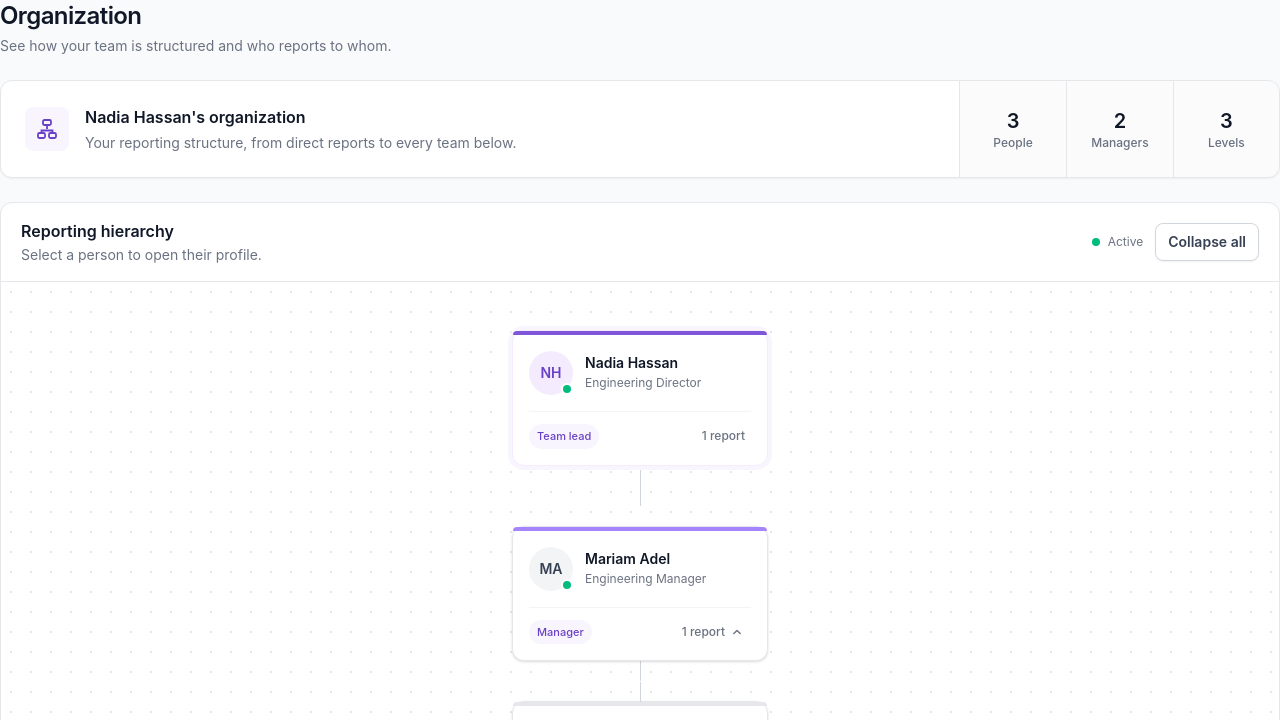
OrganizationPage › collapses and expands manager branches
Click the button with aria-label "Collapse reports for Mariam Adel".
click(713, 632)  # box [676,620,751,644]
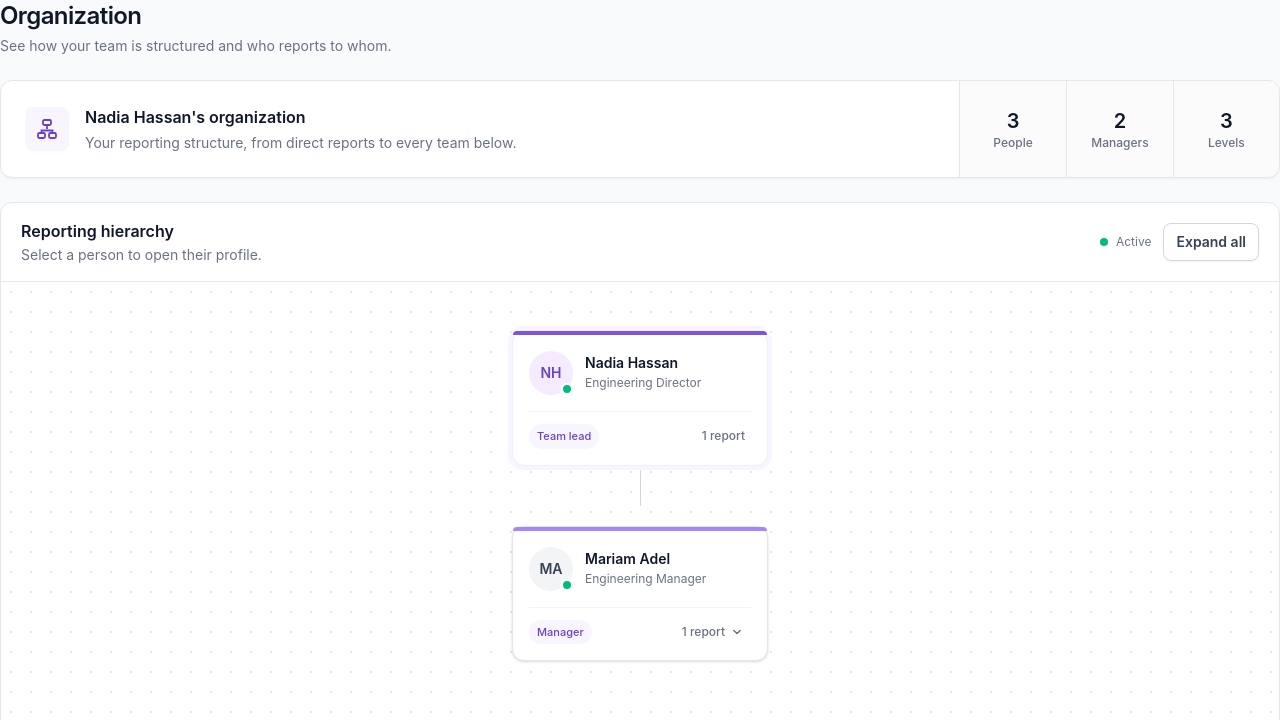
Click the button with aria-label "Expand reports for Mariam Adel".
click(713, 632)  # box [676,620,751,644]
(page scrolled)
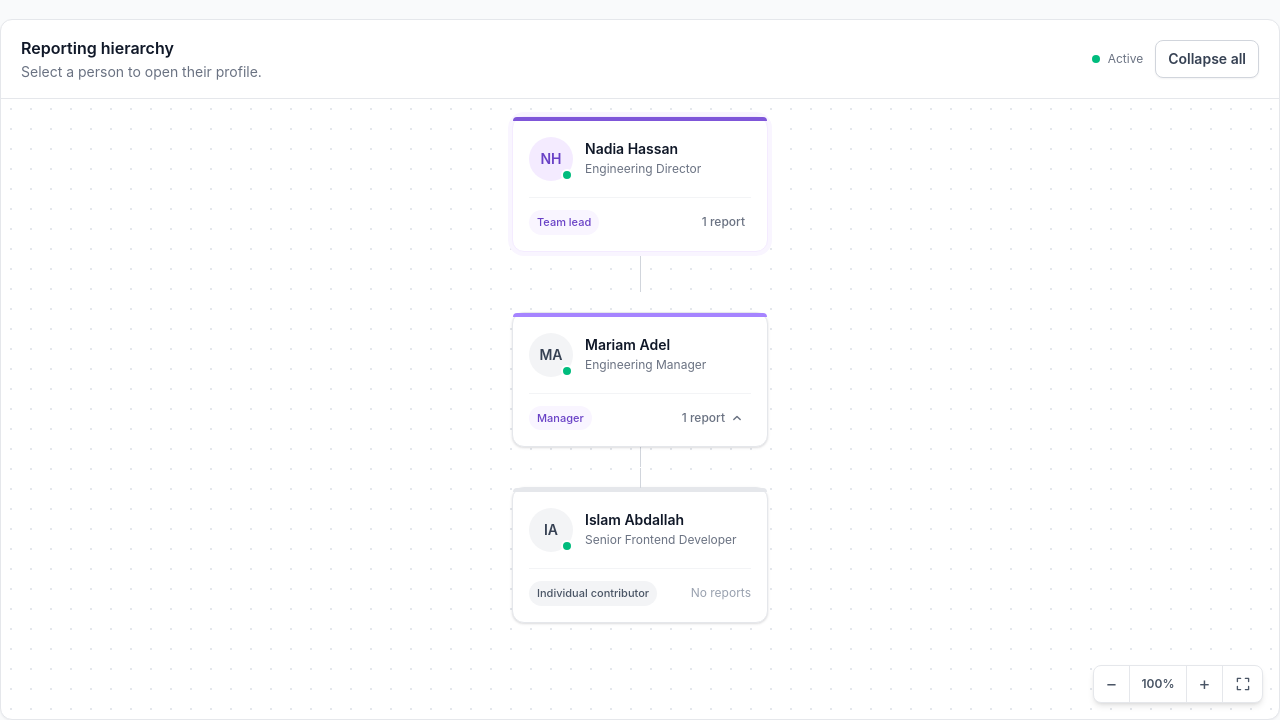
Now the link "Islam Abdallah" is shown, box [585,511,684,528]
